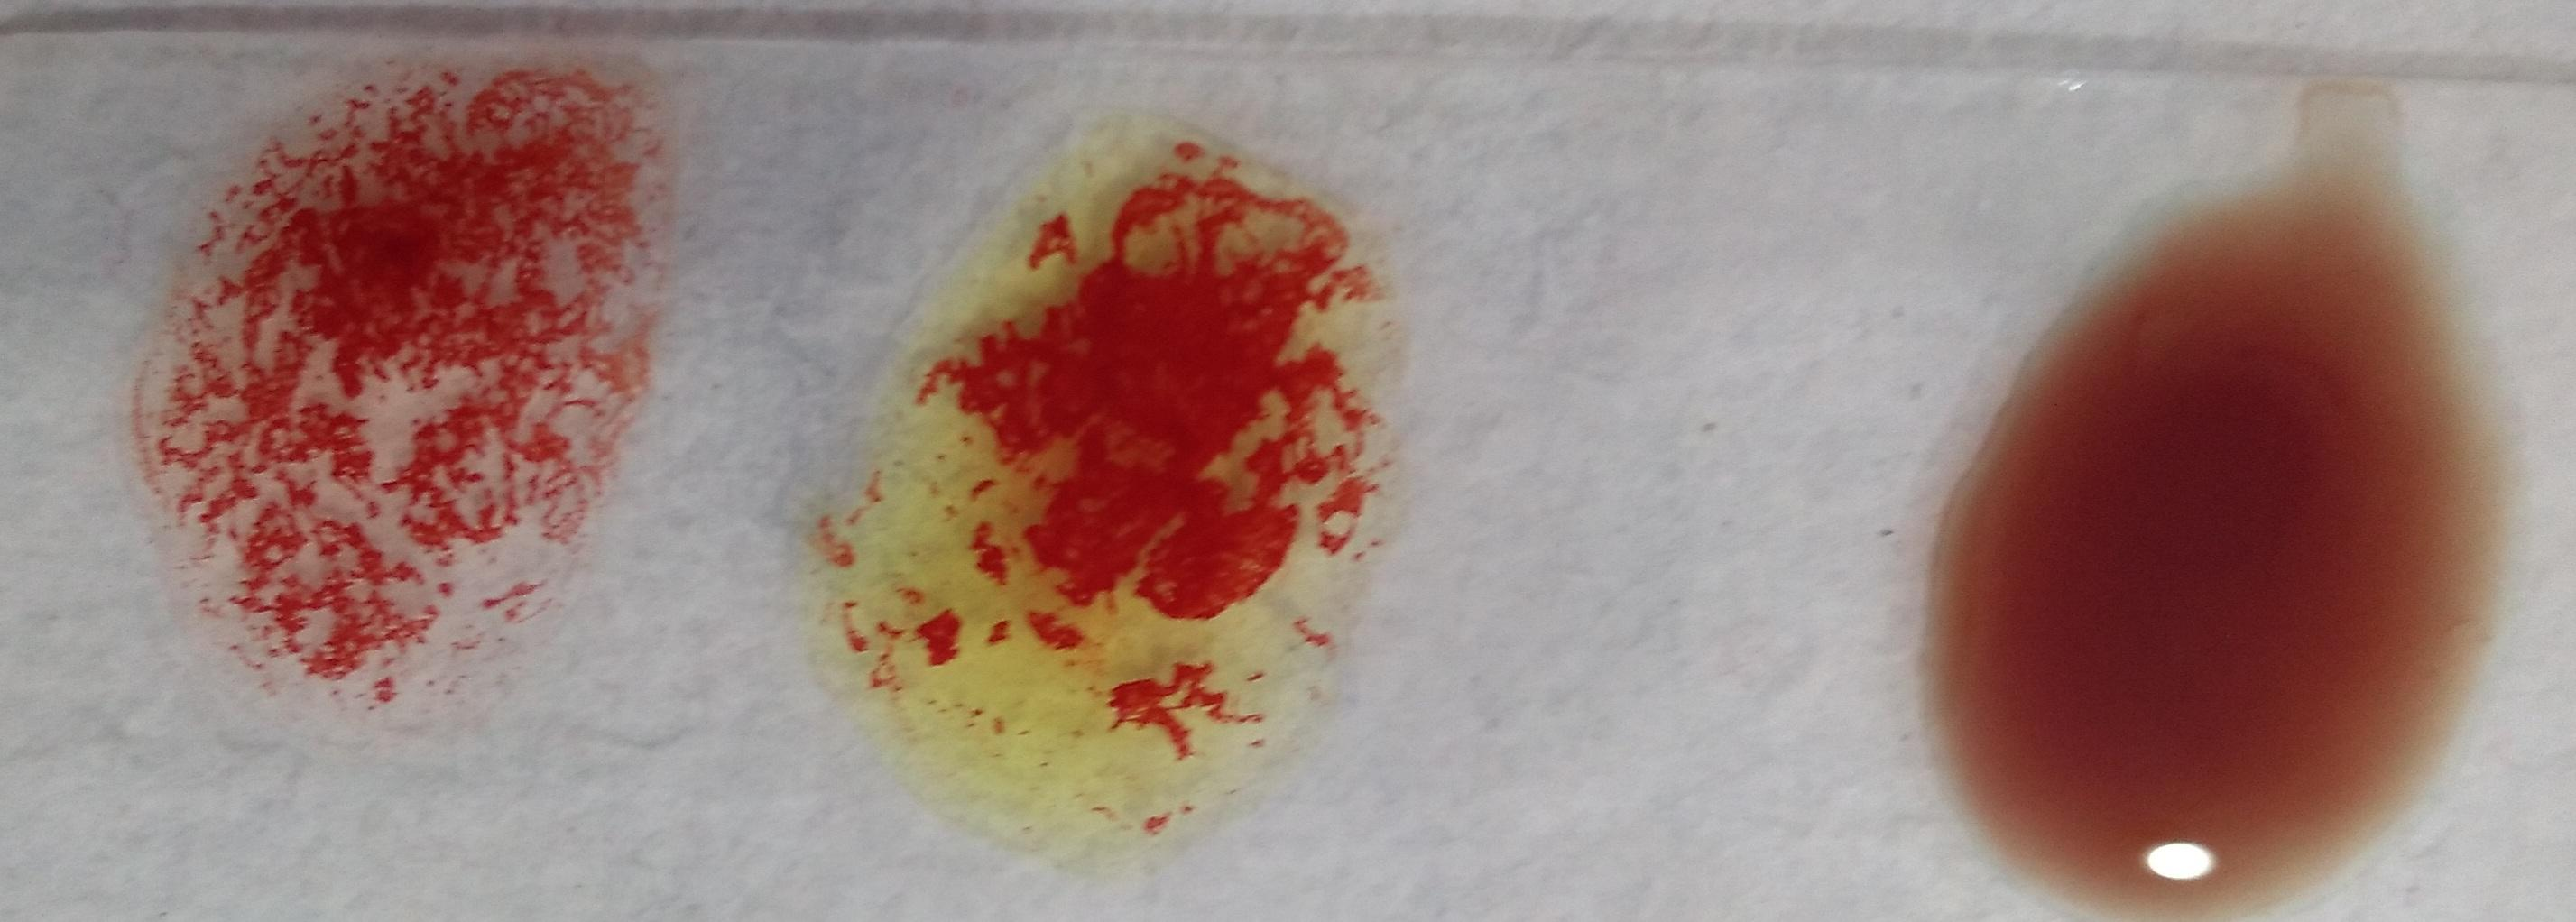B: (797, 122, 1413, 861)
D: (140, 53, 649, 728)
